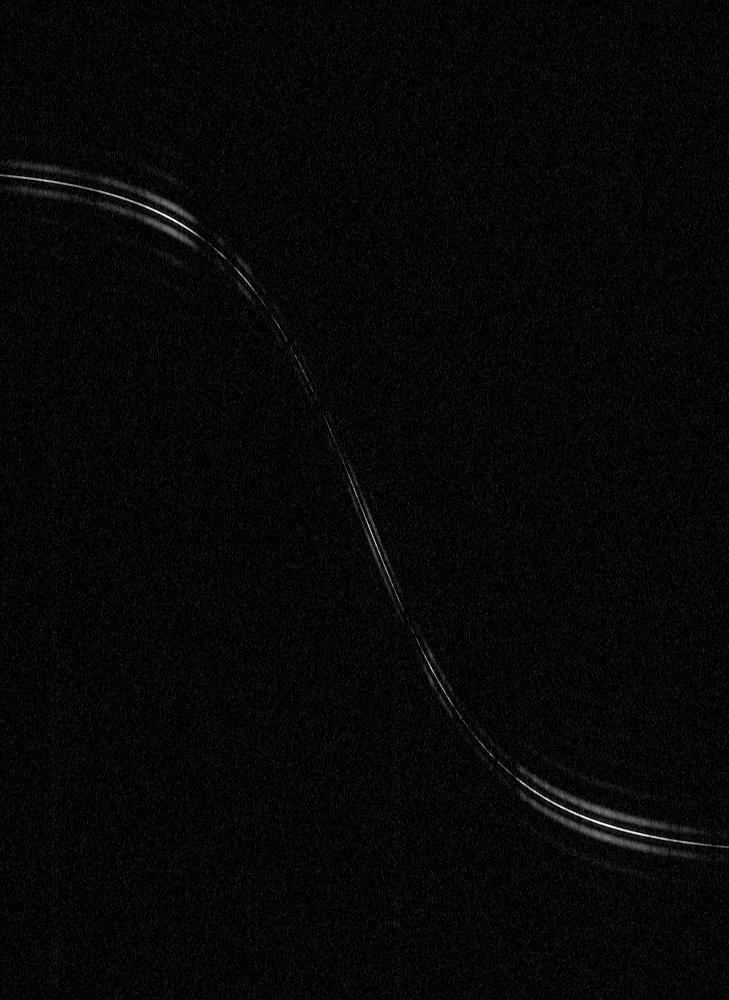signal: (0, 0, 728, 999)
